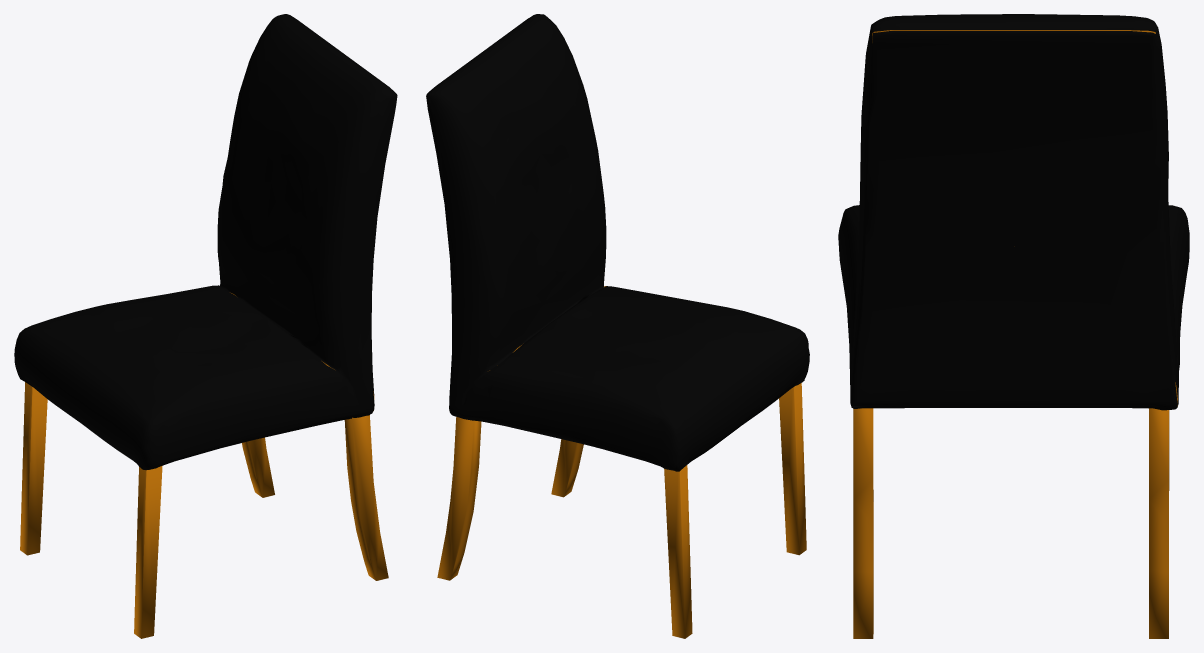
File: Chair2.fbx
3 views of the same model, side by side, from view 1: azimuth 30°, elevation 25°; view 2: azimuth 150°, elevation 25°; view 3: azimuth 270°, elevation 25° (orthographic). The views are drawn at different scales.
Visible parts, largest first — view 1: Cube.001; view 2: Cube.001; view 3: Cube.001.
Part boxes in pixels (box(x1,y1,x2,y2)): Cube.001: box(14, 14, 397, 638); Cube.001: box(426, 14, 809, 638); Cube.001: box(838, 14, 1189, 638).
Size of the model in its own units: 56.07 by 96.69 by 49.27.
